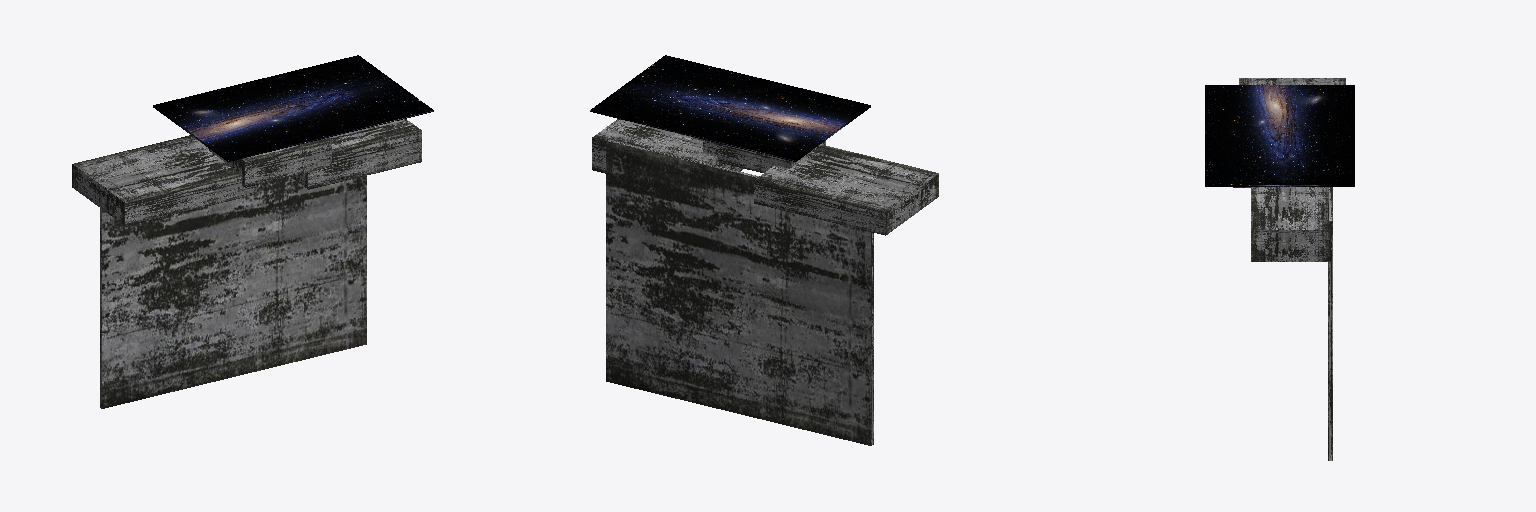
3 renders of one model, left to right at view 1: azimuth 30°, elevation 25°; view 2: azimuth 150°, elevation 25°; view 3: azimuth 270°, elevation 25°, orthographic.
Visible parts, largest first — view 1: Box02, Box05, Box03, Box01, Box04; view 2: Box02, Box05, Box03, Box01, Box04; view 3: Box05, Box01, Box02, Box03.
Part boxes in pixels (x1,y1,x2,y2): Box02: (100, 176, 366, 408); Box05: (153, 55, 433, 161); Box03: (72, 135, 256, 225); Box01: (292, 119, 421, 189); Box04: (209, 138, 331, 187); Box02: (606, 140, 873, 445); Box05: (590, 55, 870, 161); Box03: (754, 145, 938, 235); Box01: (592, 119, 742, 173); Box04: (703, 140, 825, 172); Box05: (1205, 85, 1354, 186); Box01: (1251, 187, 1330, 261); Box02: (1328, 187, 1332, 460); Box03: (1239, 78, 1345, 84).
Bounding box in the file's own units: 39.54 × 34.85 × 17.06.
2 materials, 2 textured.